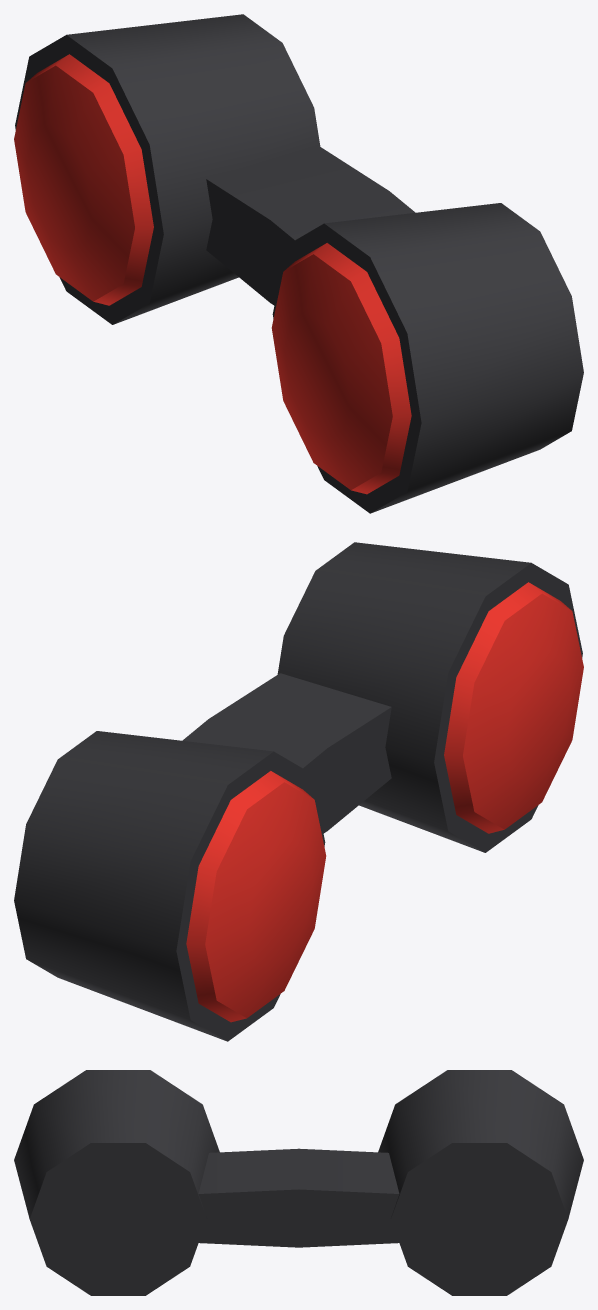
Rendered from twin_lod1.glb.
3 views of the same model, one above another, from view 1: azimuth 30°, elevation 25°; view 2: azimuth 150°, elevation 25°; view 3: azimuth 270°, elevation 25° (orthographic). The views are drawn at different scales.
Visible parts, largest first — view 1: twin_lod1; view 2: twin_lod1; view 3: twin_lod1.
Boxes of the visible parts, x1,y1,x2,y2 form: twin_lod1: (14, 14, 583, 513); twin_lod1: (14, 542, 583, 1041); twin_lod1: (14, 1070, 583, 1295).
Size of the model in its own units: 0.041 by 0.0495 by 0.142.
